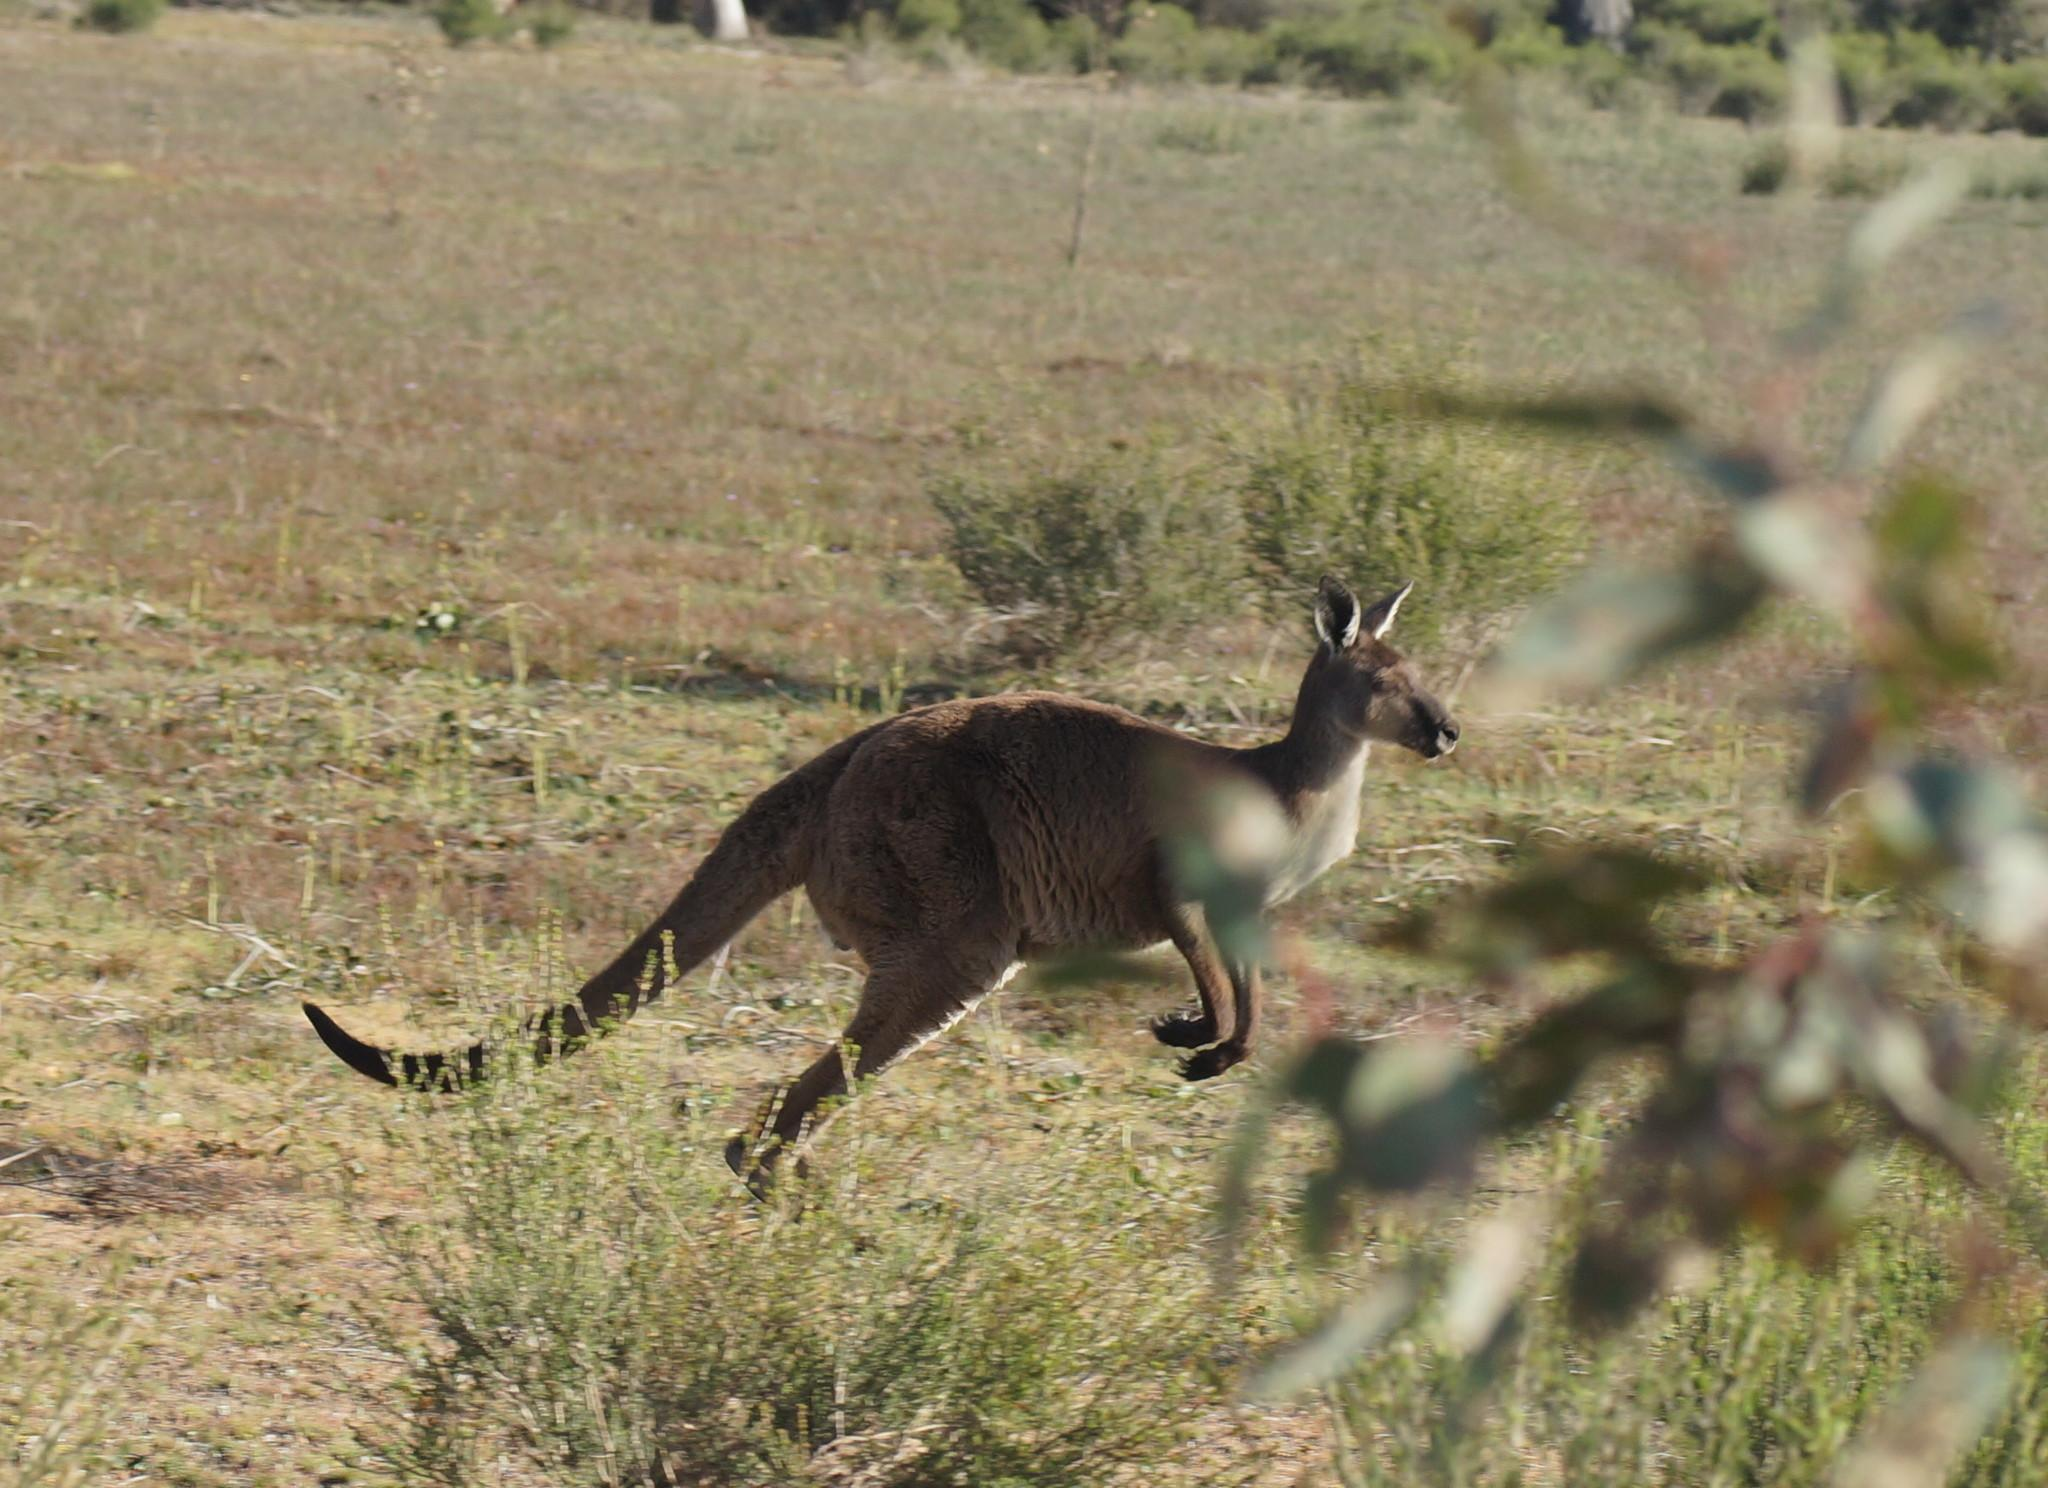Western grey kangaroo: (293, 580, 1466, 1234)
